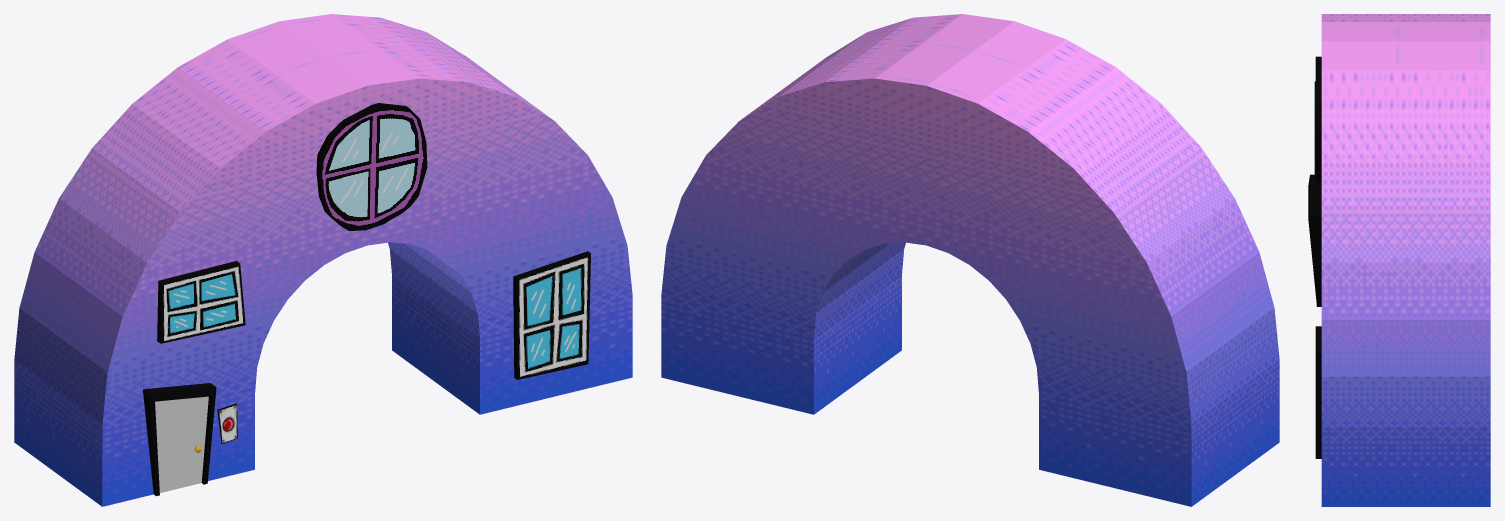
File: House8.fbx
3 views of the same model, side by side, from view 1: azimuth 30°, elevation 25°; view 2: azimuth 150°, elevation 25°; view 3: azimuth 270°, elevation 25° (orthographic). The views are drawn at different scales.
Parts seen in each view (by area): view 1: House 8, Plane.014, Plane.000, Door.003, Plane.018, Doorbell 1; view 2: House 8; view 3: House 8, Door.003, Plane.000, Plane.014.
Boxes of the visible parts, x1=… form: House 8: x1=14, y1=14, x2=632, y2=506; Plane.014: x1=316, y1=103, x2=427, y2=230; Plane.000: x1=513, y1=251, x2=590, y2=379; Door.003: x1=143, y1=383, x2=216, y2=496; Plane.018: x1=157, y1=261, x2=245, y2=343; Doorbell 1: x1=217, y1=403, x2=237, y2=443; House 8: x1=661, y1=14, x2=1279, y2=506; House 8: x1=1321, y1=14, x2=1490, y2=506; Door.003: x1=1308, y1=174, x2=1321, y2=306; Plane.000: x1=1315, y1=326, x2=1321, y2=458; Plane.014: x1=1315, y1=56, x2=1321, y2=183.
Size of the model in its own units: 135 by 86.6 by 41.82.
